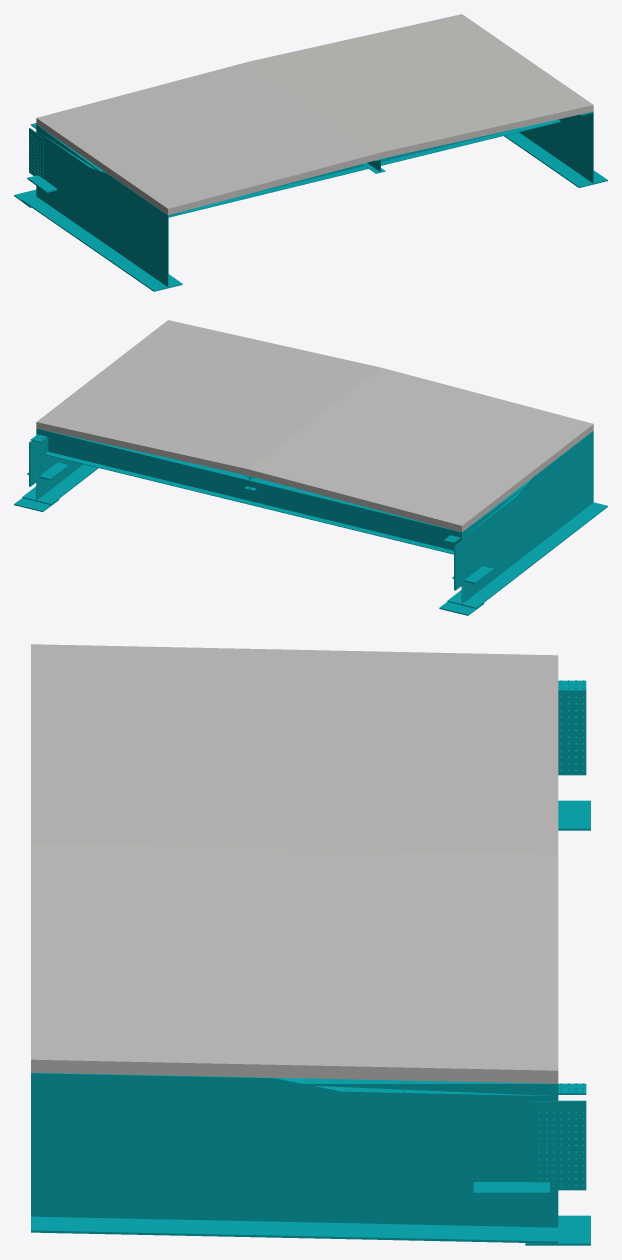
Rendered from DECK_SP.glb.
3 renders of one model, top to bottom at view 1: azimuth 30°, elevation 25°; view 2: azimuth 150°, elevation 25°; view 3: azimuth 270°, elevation 25°, orthographic. The views are drawn at different scales.
Visible parts, largest first — view 1: SP_Slab_18, SP_G_W_0, SP_G_E_1, SP_FB_bf_14, SP_SpliceW_20, SP_FB_web_11; view 2: SP_Slab_18, SP_G_W_0, SP_FB_web_3, SP_EndBlock_17, SP_FB_bf_6, SP_G_E_1, SP_SpliceW_20, SP_SpliceW_28; view 3: SP_Slab_18, SP_G_E_1, SP_SpliceW_29, SP_EndBlock_17, SP_SpliceW_21, SP_SpliceB_30, SP_SolePlate_16, SP_SpliceB_22.
Part boxes in pixels (x1,y1,x2,y2): SP_Slab_18: [36, 14, 593, 215]; SP_G_W_0: [22, 131, 182, 291]; SP_G_E_1: [504, 111, 607, 187]; SP_FB_bf_14: [168, 119, 560, 217]; SP_SpliceW_20: [29, 128, 43, 178]; SP_FB_web_11: [246, 128, 516, 194]; SP_Slab_18: [36, 320, 593, 532]; SP_G_W_0: [447, 431, 607, 608]; SP_FB_web_3: [48, 438, 461, 550]; SP_EndBlock_17: [36, 428, 530, 538]; SP_FB_bf_6: [44, 452, 453, 554]; SP_G_E_1: [22, 437, 98, 504]; SP_SpliceW_20: [455, 536, 469, 590]; SP_SpliceW_28: [29, 440, 44, 486]; SP_Slab_18: [31, 644, 558, 1083]; SP_G_E_1: [31, 1072, 558, 1243]; SP_SpliceW_29: [530, 1101, 586, 1190]; SP_EndBlock_17: [282, 1078, 558, 1096]; SP_SpliceW_21: [558, 691, 586, 775]; SP_SpliceB_30: [525, 1215, 590, 1245]; SP_SolePlate_16: [473, 1182, 549, 1195]; SP_SpliceB_22: [558, 800, 590, 830].
Bounding box in the file's own units: 18.26 × 3.51 × 9.75.
